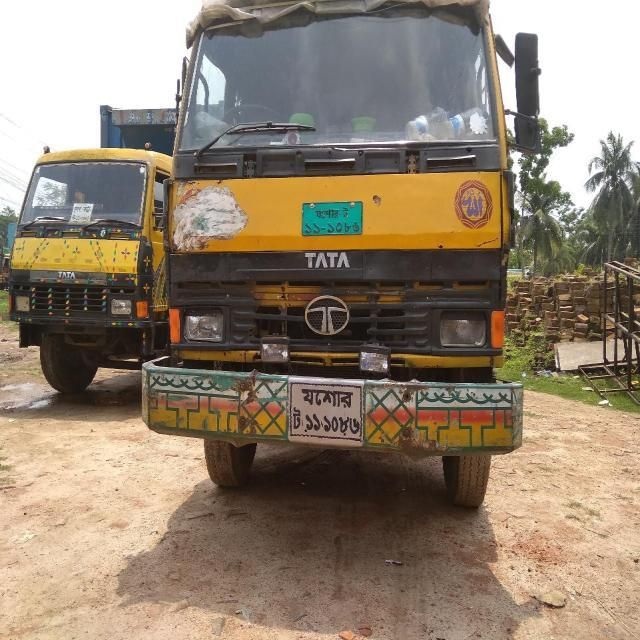numberplate: (286, 380, 364, 446), (300, 200, 363, 236)
